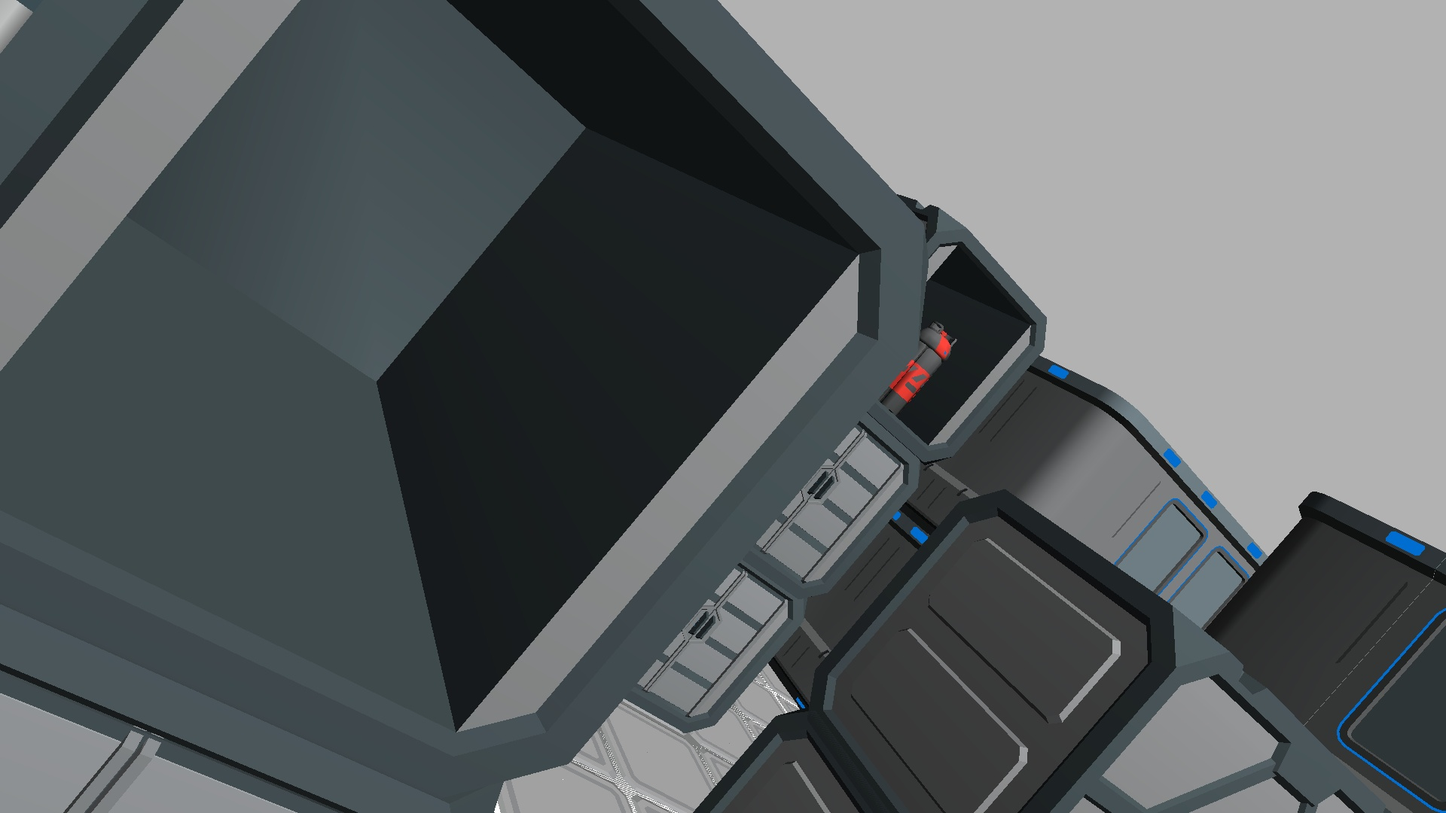red barrel: (877, 321, 957, 416)
